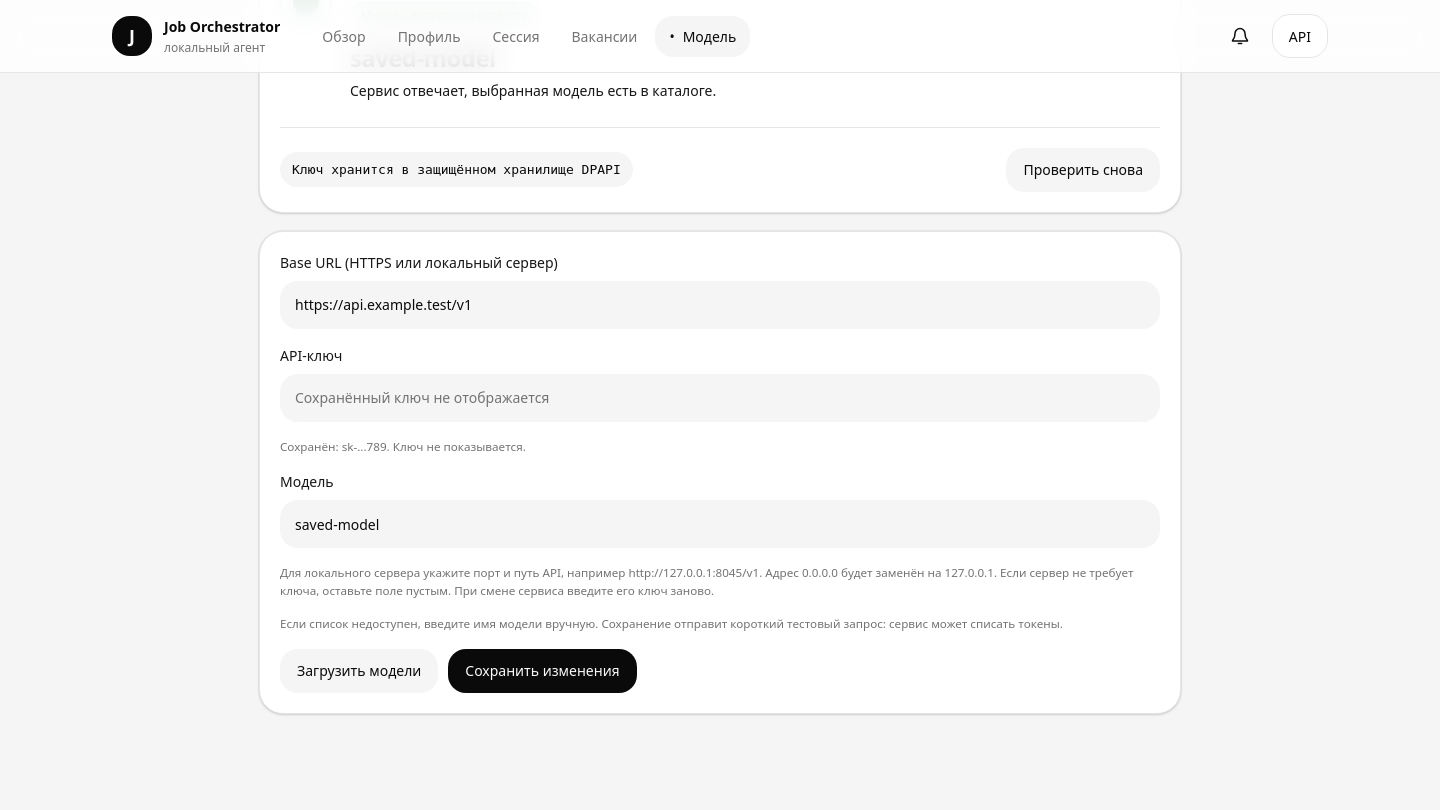
Test case: does not send a masked saved key back to the API
(page scrolled)
Check: the text "Сохранён: sk-...789. Ключ не показывается." is shown, box [280, 438, 526, 454]
Check: the password field labelled "API-ключ" is empty, box [280, 374, 1160, 422]
What coordinates should you click on to do the following:
click the button "Загрузить модели"
I would click on:
 (359, 670)
Its box is [280, 648, 438, 692].
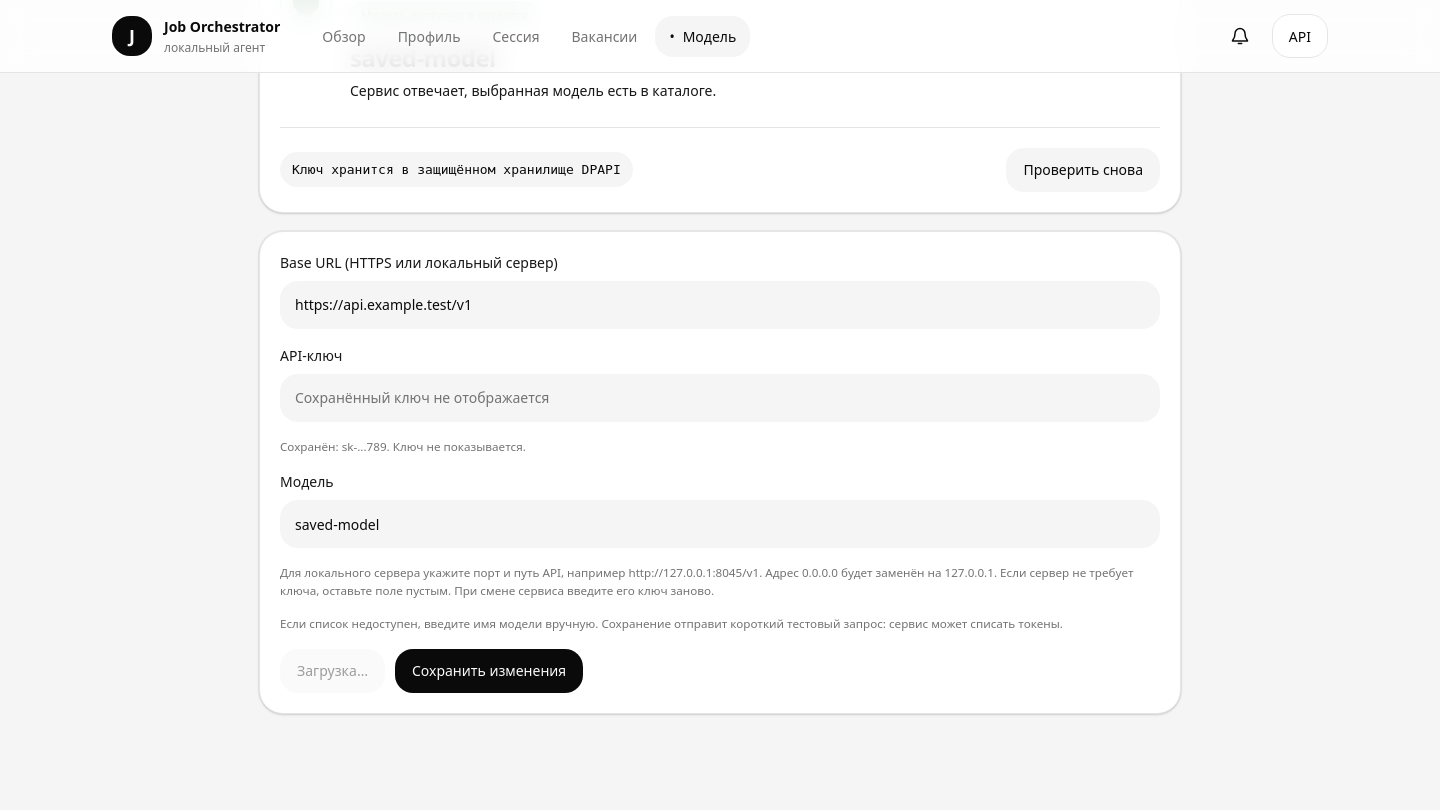
What coordinates should you click on to do the following:
click the button "Сохранить изменения"
I would click on:
 (489, 670)
Its box is [395, 648, 583, 692].
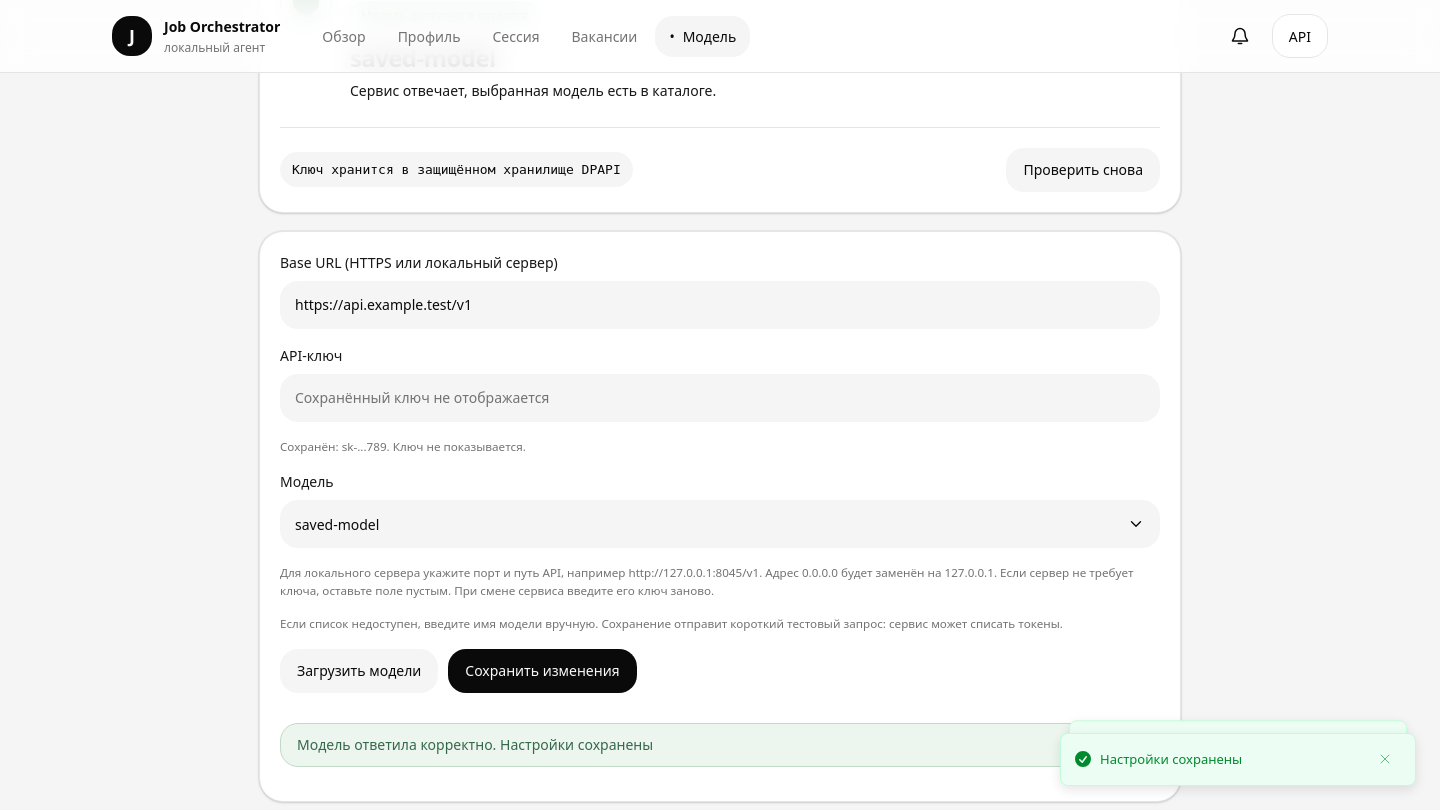
Check: the text "Настройки сохранены" is shown, box [1100, 750, 1242, 769]
